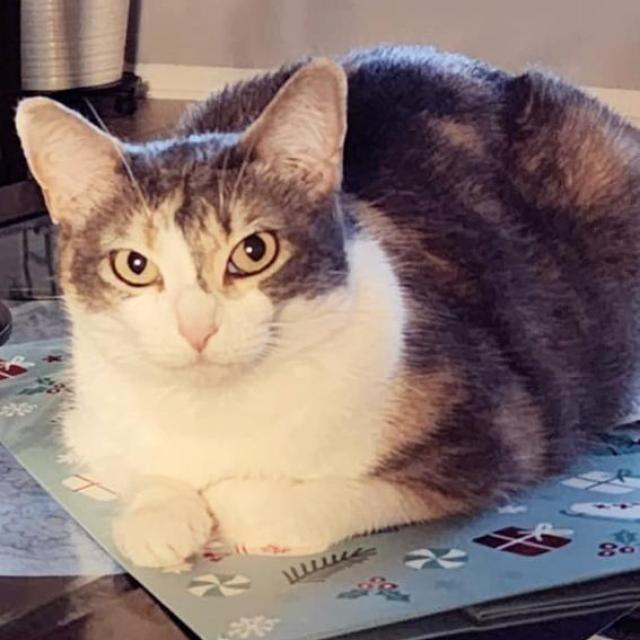calico_cat: (7, 51, 398, 423)
